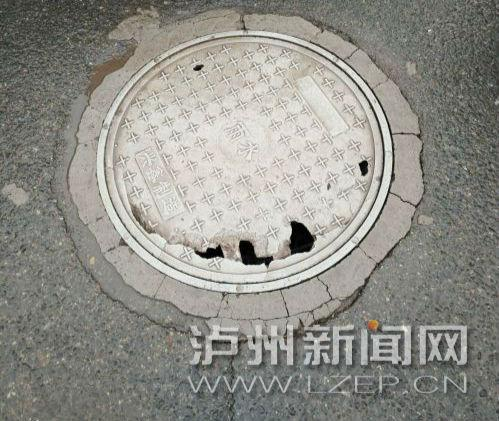broke: (53, 20, 411, 326)
